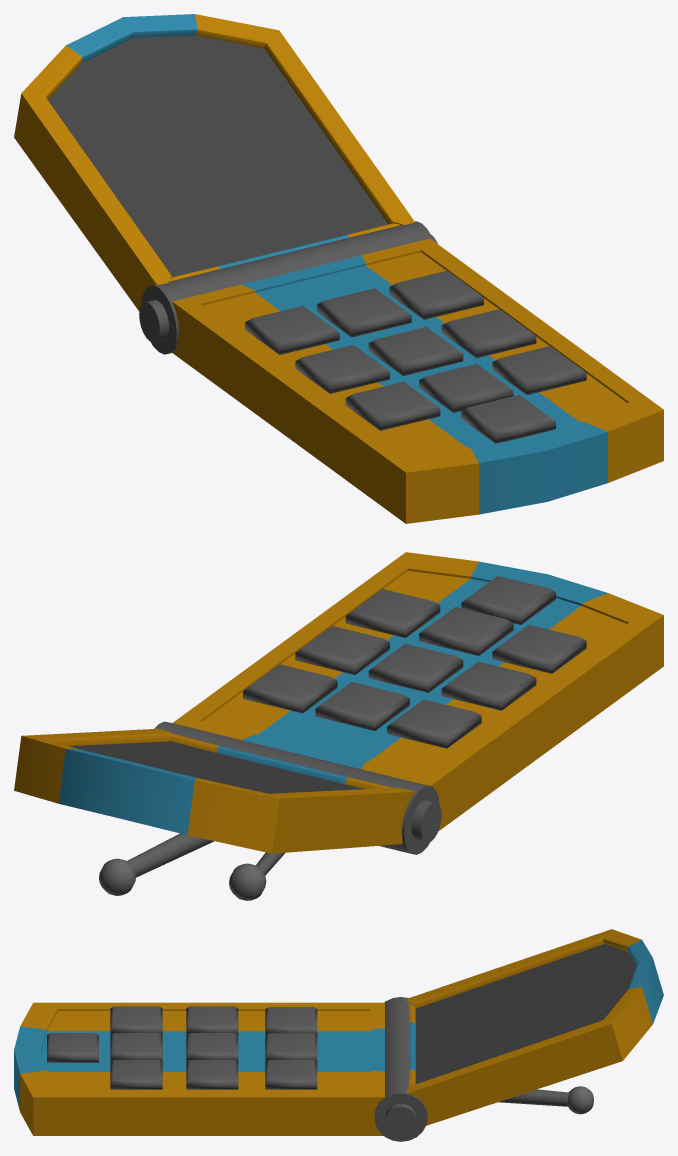
The model's file is phone.fbx.
3 views of the same model, one above another, from view 1: azimuth 30°, elevation 25°; view 2: azimuth 150°, elevation 25°; view 3: azimuth 270°, elevation 25° (orthographic). The views are drawn at different scales.
Visible parts, largest first — view 1: pCube12; view 2: pCube12; view 3: pCube12.
Part boxes in pixels (x1,y1,x2,y2): pCube12: (14,14,663,523); pCube12: (14,552,663,900); pCube12: (14,929,663,1141).
Size of the model in its own units: 69.33 by 42.96 by 184.
